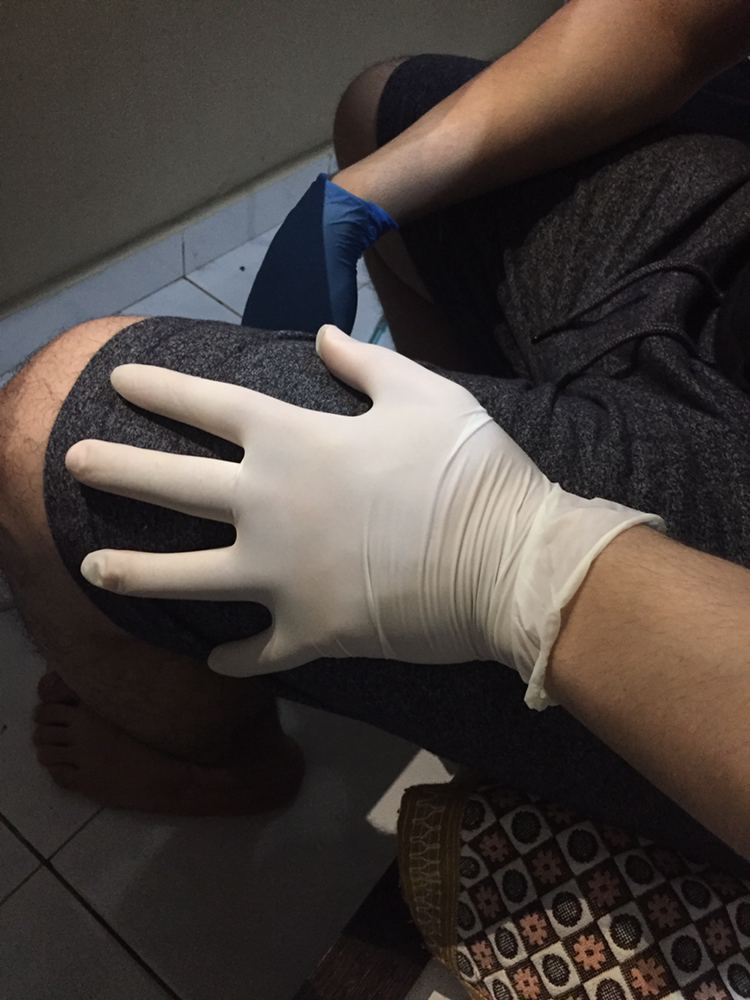glove: (58, 348, 587, 712)
